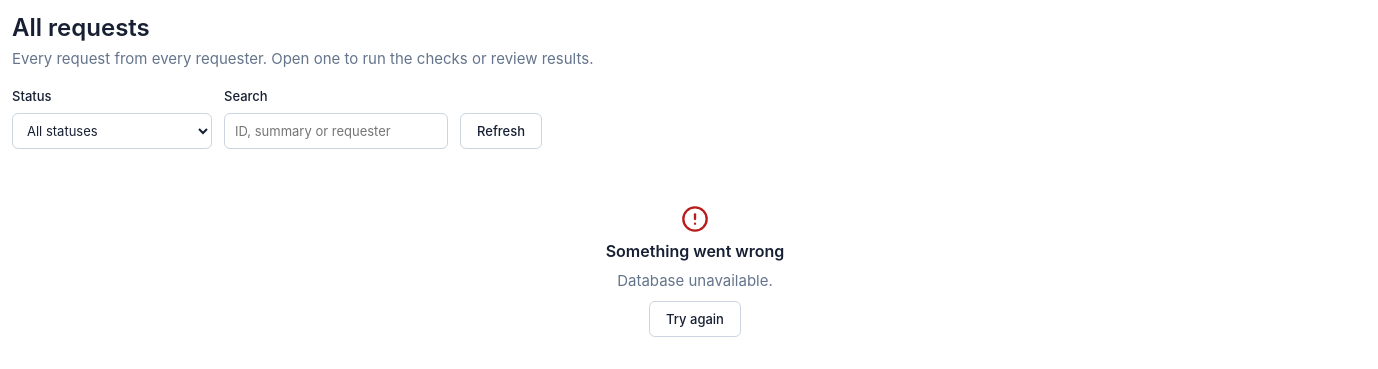
Test: RequestQueuePage › shows an error with retry
Expected: the text "Database unavailable." is shown, [617, 269, 773, 293]
Click the button "Try again". click: (695, 319)
box: [649, 301, 741, 337]
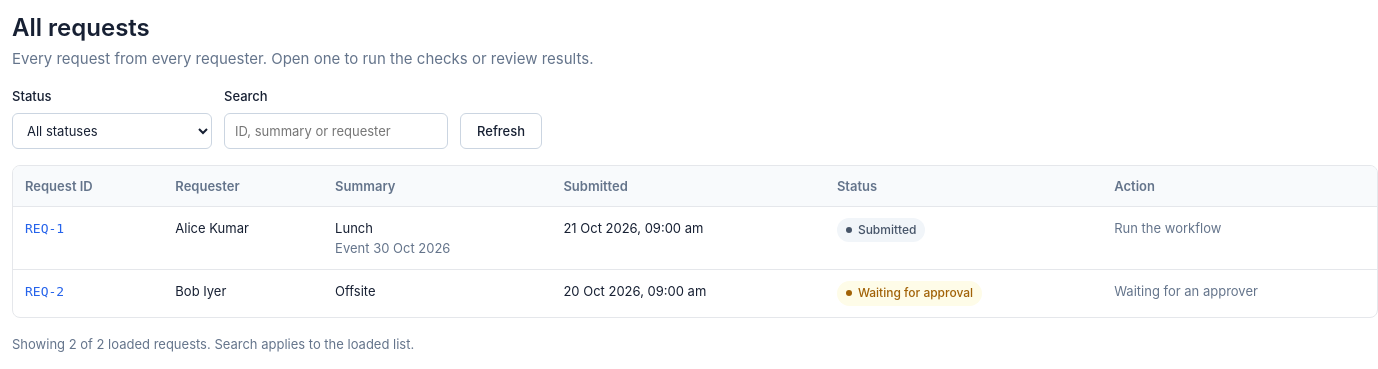
Expected: the link "REQ-1" is shown, [25, 221, 64, 236]
